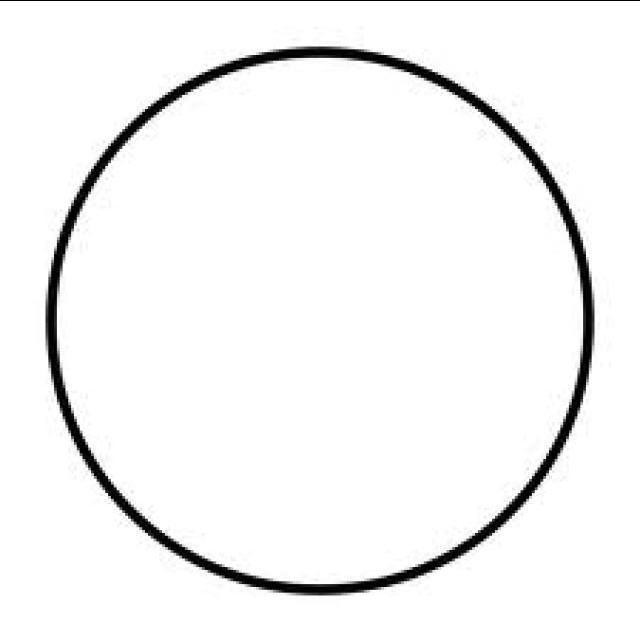Circle: (39, 38, 592, 600)
